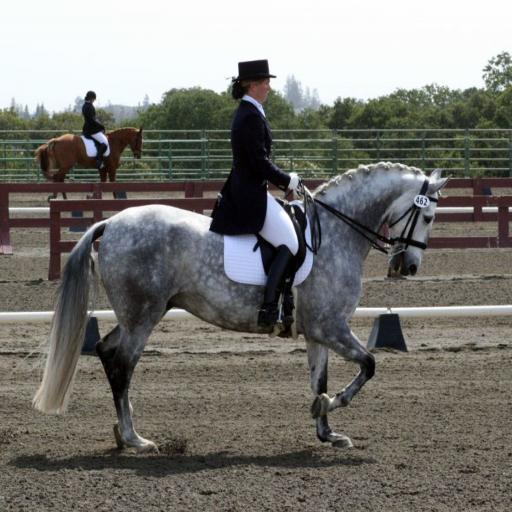horse: (7, 160, 453, 458), (33, 126, 143, 203)
